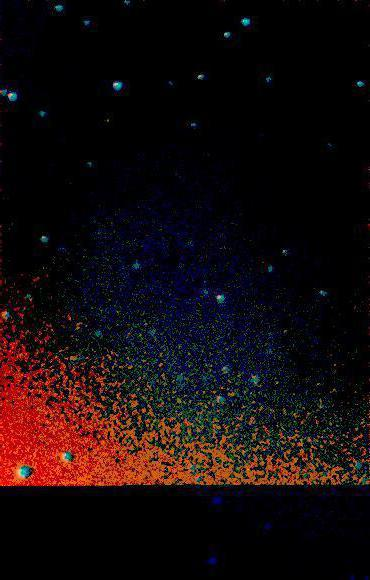star: (95, 105, 125, 135)
